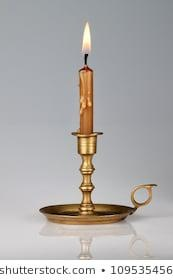fire: (80, 21, 92, 53)
